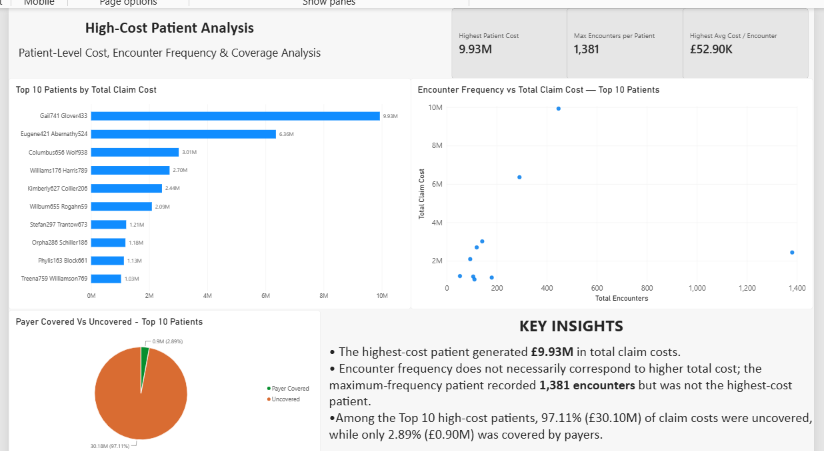

The page's visual inventory and layout, read from the dashboard file:
{"tool":"powerbi","page":{"name":"High-Cost Patient Analysis","canvas":[1920,1080],"ordinal":2},"visuals":[{"type":"textbox","box":[0,24,768,288],"z":0},{"type":"cardVisual","fields":{"Data":["_Measures.Highest Patient Claim Cost"]},"box":[1056,0,300,170],"z":1000},{"type":"cardVisual","fields":{"Data":["_Measures.Highest Patient Encounter Count"]},"box":[1332,0,300,170],"z":2000},{"type":"cardVisual","fields":{"Data":["_Measures.Highest Avg Claim Cost per Encounter"]},"box":[1608,0,300,170],"z":3000},{"type":"barChart","title":"Top 10 Patients by Total Claim Cost","fields":{"Y":["_Measures.Total Claim Cost"],"Category":["patients.Full Name"]},"box":[0,168,960,552],"z":4000},{"type":"scatterChart","title":"Encounter Frequency vs Total Claim Cost — Top 10 Patients","fields":{"X":["_Measures.Total Encounters"],"Y":["_Measures.Total Claim Cost"],"Category":["patients.Full Name"]},"box":[960,168,960,552],"z":5000},{"type":"pieChart","title":"Payer Covered Vs Uncovered - Top 10 Patients","fields":{"Y":["_Measures.Top 10 Patient Payer Coverage","_Measures.Top 10 Patient Uncovered Amount"]},"box":[0,720,744,360],"z":6000},{"type":"textbox","box":[744,720,1176,360],"z":7000}]}

Visuals, with their boxes on the page's 1920x1080 design canvas (x1, y1, x2, y2). These are canvas units, not pixel positions in the 824x451 screenshot, which may show the page scaled, cropped or inside an application window:
textbox: {"left": 0, "top": 24, "right": 768, "bottom": 312}
cardVisual - _Measures.Highest Patient Claim Cost: {"left": 1056, "top": 0, "right": 1356, "bottom": 170}
cardVisual - _Measures.Highest Patient Encounter Count: {"left": 1332, "top": 0, "right": 1632, "bottom": 170}
cardVisual - _Measures.Highest Avg Claim Cost per Encounter: {"left": 1608, "top": 0, "right": 1908, "bottom": 170}
"Top 10 Patients by Total Claim Cost" barChart: {"left": 0, "top": 168, "right": 960, "bottom": 720}
"Encounter Frequency vs Total Claim Cost — Top 10 Patients" scatterChart: {"left": 960, "top": 168, "right": 1920, "bottom": 720}
"Payer Covered Vs Uncovered - Top 10 Patients" pieChart: {"left": 0, "top": 720, "right": 744, "bottom": 1080}
textbox: {"left": 744, "top": 720, "right": 1920, "bottom": 1080}
